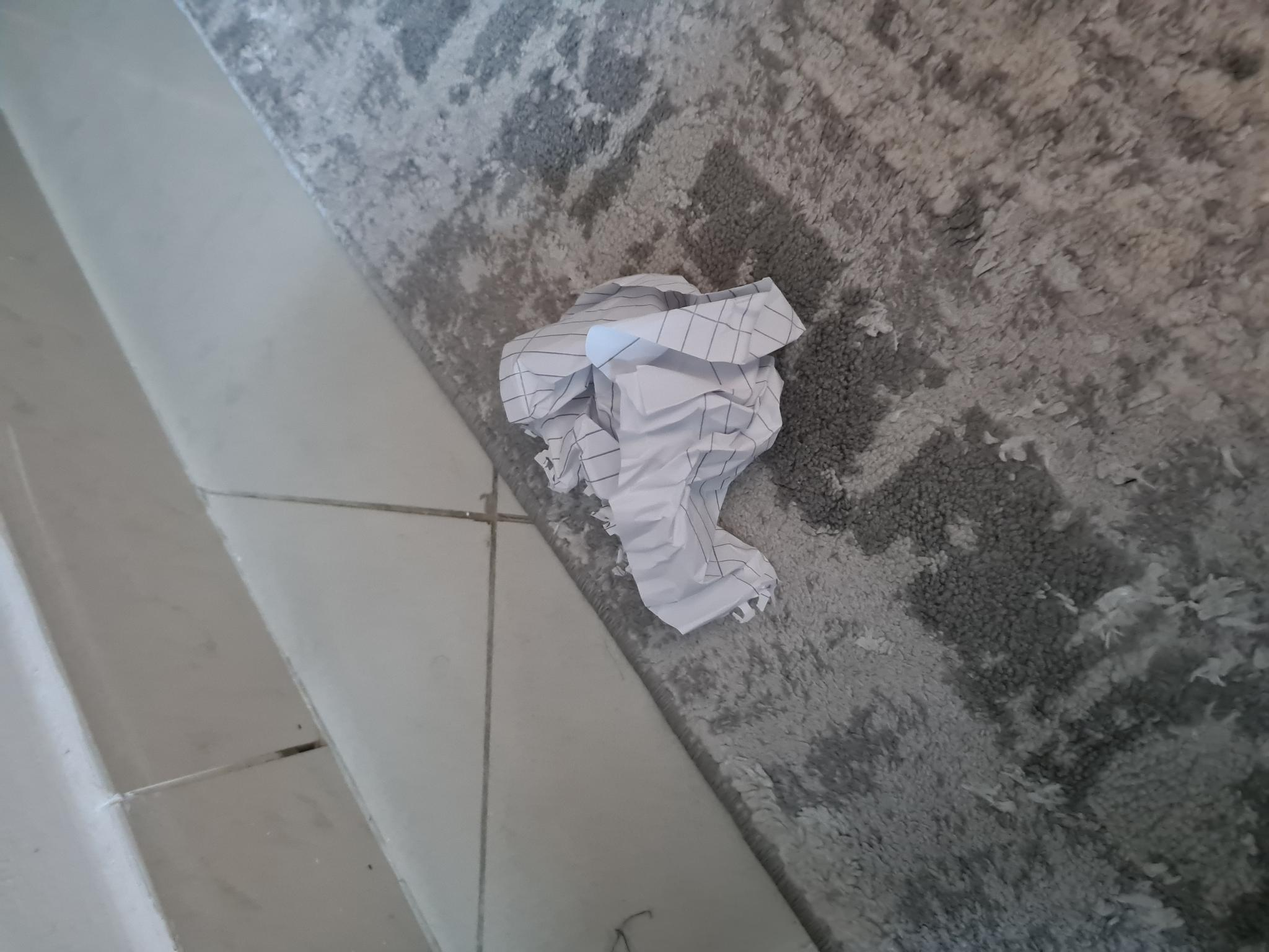Kertas: (319, 500, 678, 803)
